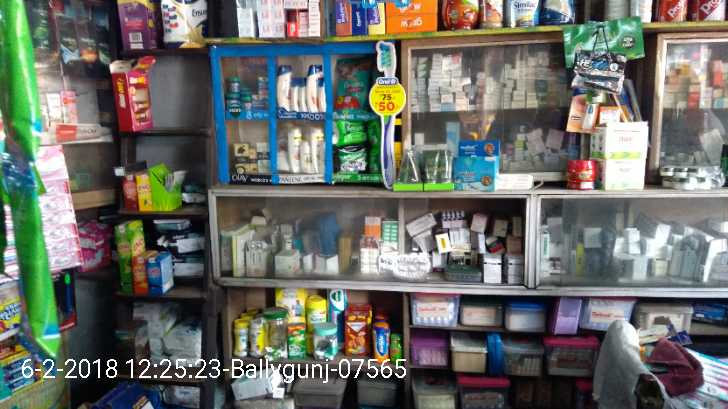vicks: (226, 74, 269, 114)
